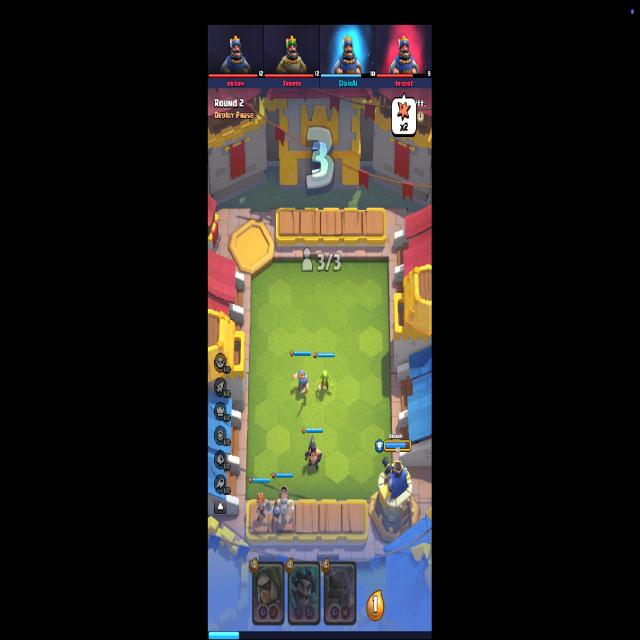card_bandit: (252, 560, 285, 627)
card_e_wiz: (287, 560, 320, 625)
card_mega_knight: (324, 560, 356, 626)
executioner: (305, 434, 323, 472)
giant_skeleton: (274, 488, 294, 525)
goblin: (317, 369, 333, 395)
knight: (293, 368, 310, 396)
valkyrie: (255, 493, 271, 522)
